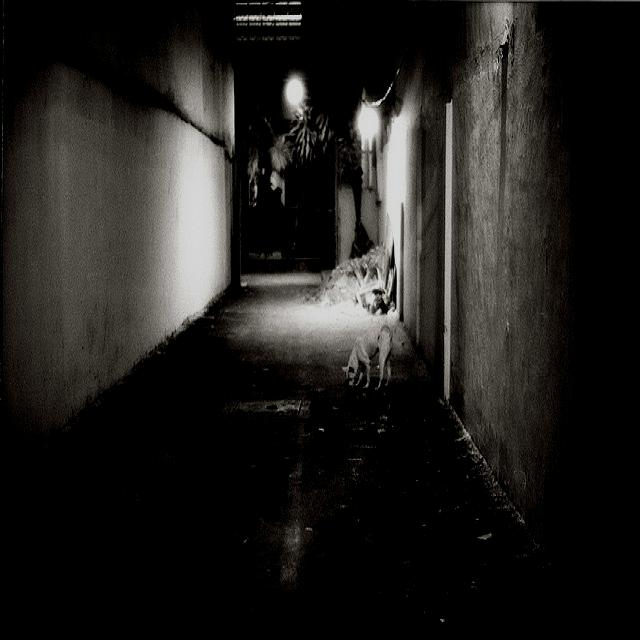Dog: (348, 283, 422, 438)
